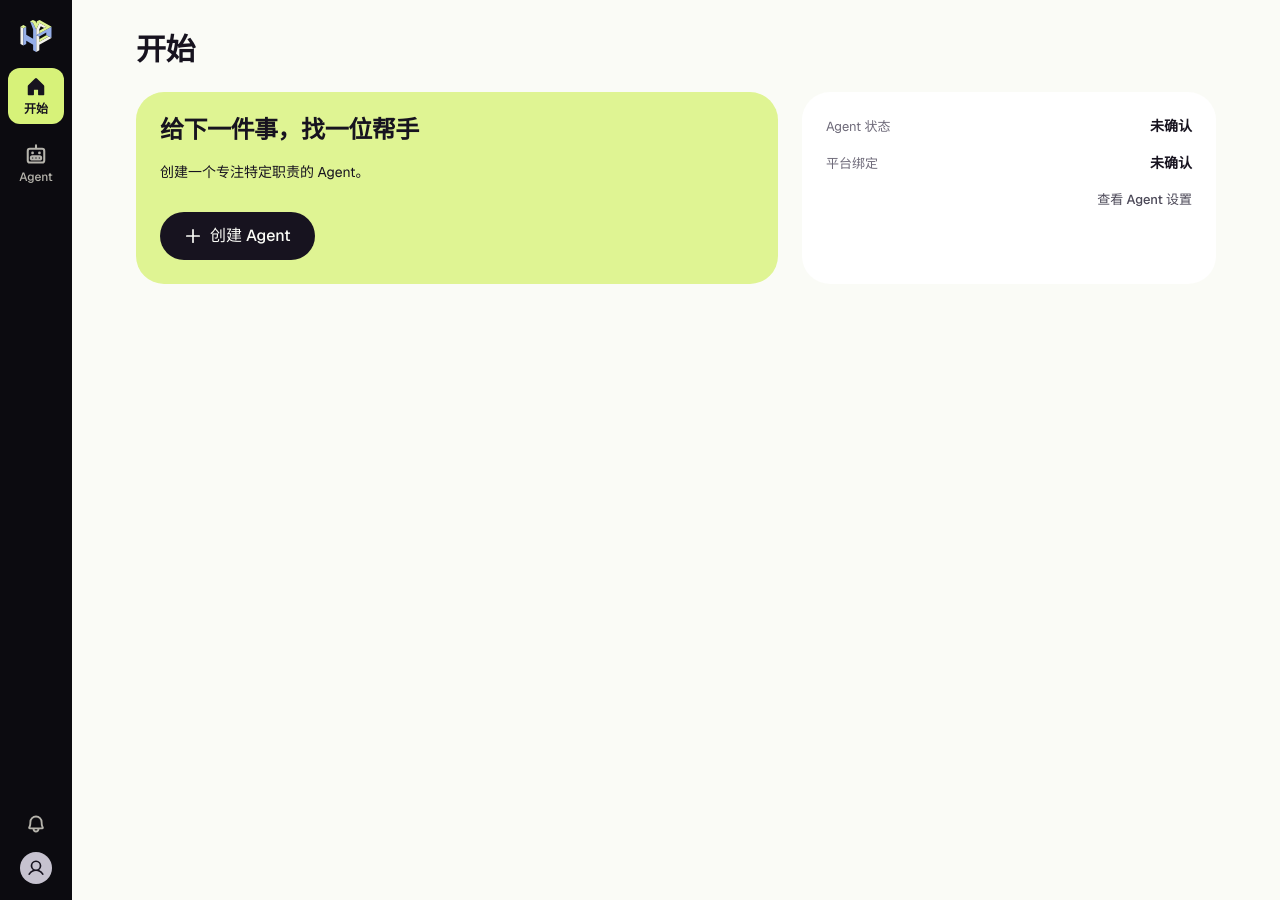
signed-out Start links follow the entries shown in that state › shows both links when their destinations are shown, and asks for login on use
Expected: the button "创建 Agent" is shown, [160,212,315,260]
Click the button "查看 Agent 设置" at coordinates (1145, 200), box [1097,190,1192,210]
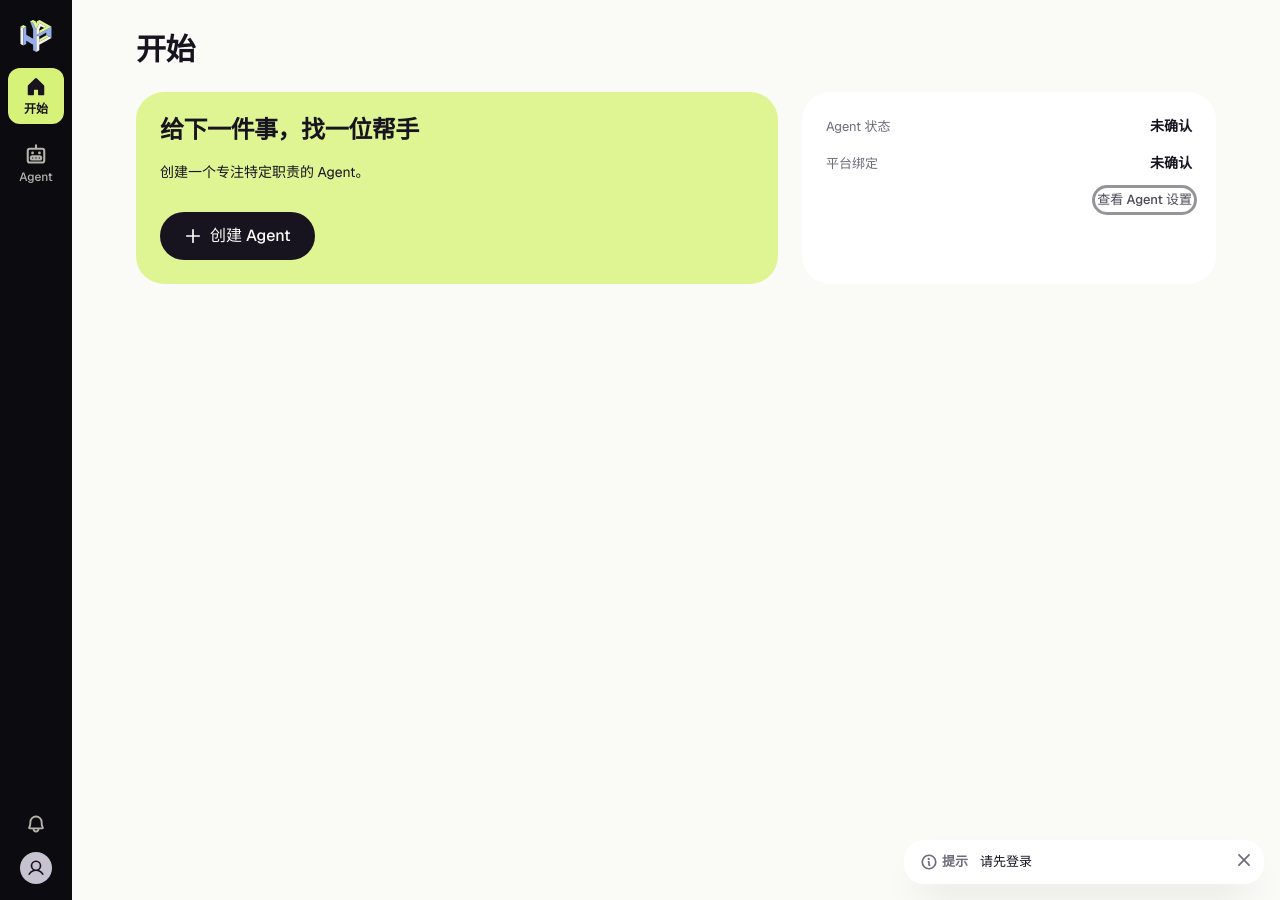
Now the text "请先登录" is shown, box [980,853,1032,870]
